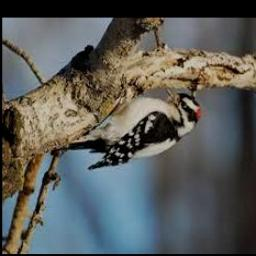Woodpecker: (51, 87, 200, 169)
